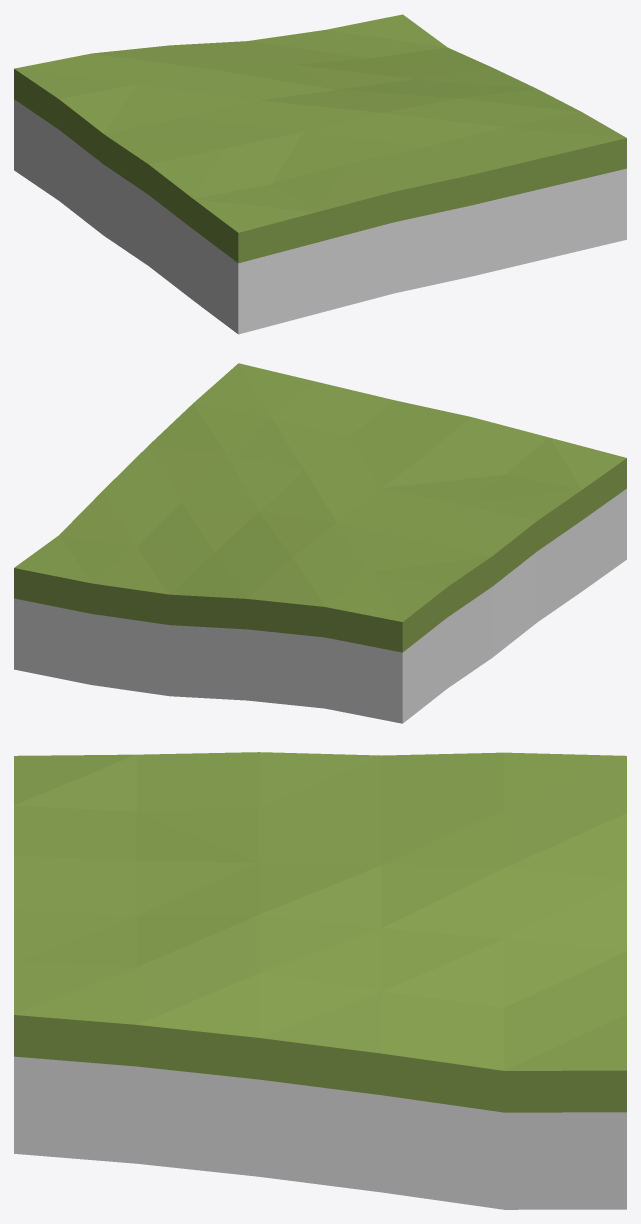
File: terrain-world-valley_01-1.fbx
3 views of the same model, one above another, from view 1: azimuth 30°, elevation 25°; view 2: azimuth 150°, elevation 25°; view 3: azimuth 270°, elevation 25° (orthographic). The views are drawn at different scales.
Visible parts, largest first — view 1: terrain-world-valley_01-1; view 2: terrain-world-valley_01-1; view 3: terrain-world-valley_01-1.
Boxes of the visible parts, left/top/right/bottom form: terrain-world-valley_01-1: left=14, top=14, right=626, bottom=334; terrain-world-valley_01-1: left=14, top=363, right=626, bottom=723; terrain-world-valley_01-1: left=14, top=752, right=626, bottom=1209.
Size of the model in its own units: 20.01 by 7.16 by 20.
